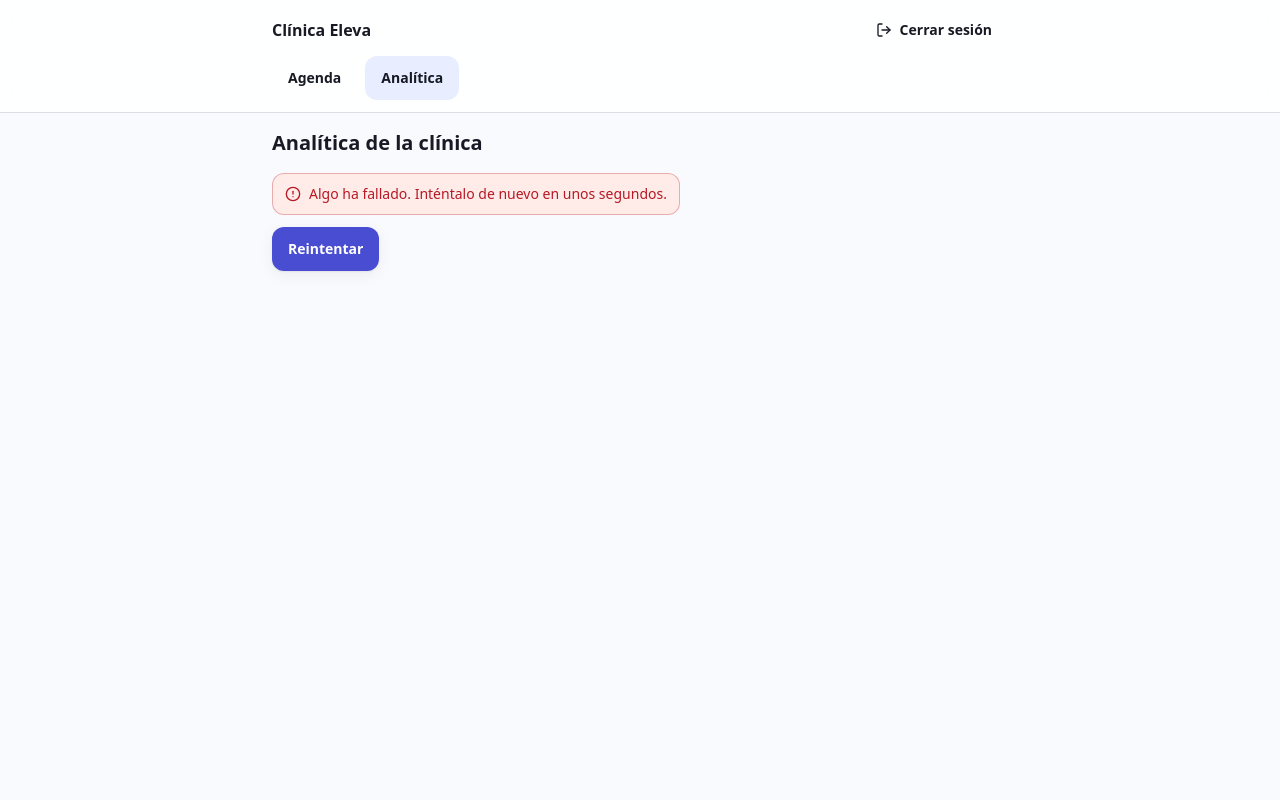
Test: Acceso y estados de la analítica (US4) › [004][FR-012] un error de carga muestra el aviso y «Reintentar» vuelve a cargar
This screenshot has width=1280, height=800.
expect the text "Algo ha fallado. Inténtalo de nuevo en unos segundos." is shown: met, box [309,184,667,204]
Step 1. Click the button "Reintentar" → click(326, 249), box [272,227,379,271]
(page scrolled)
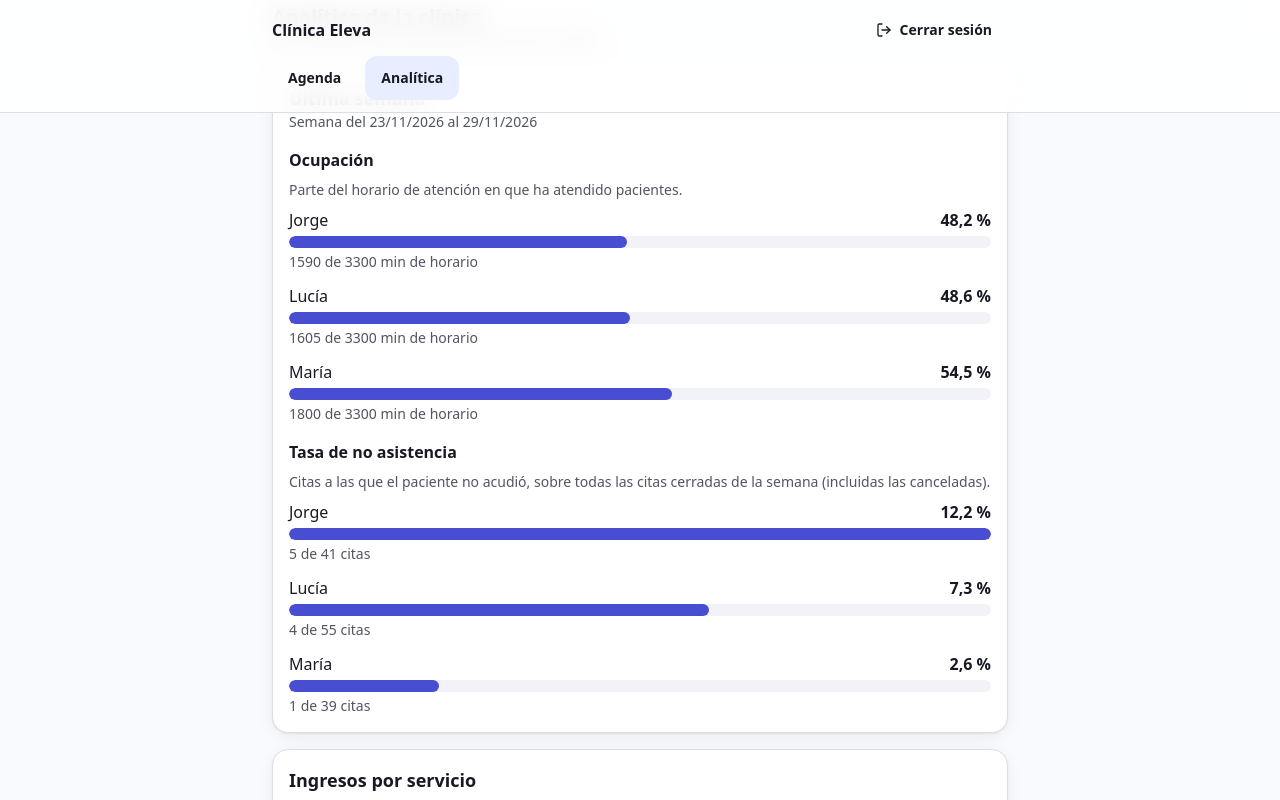
expect the element "Última semana" is shown: met, box [272,67,1008,733]
